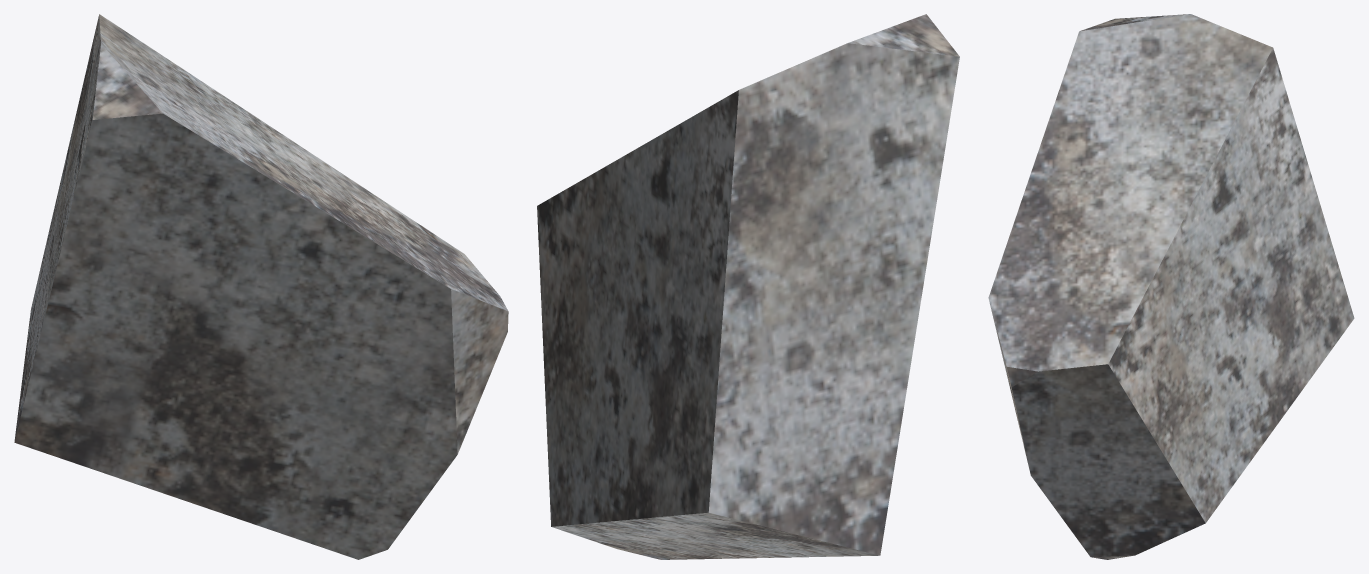
The model's file is Asteroid_Large_001_02_003_03_002.fbx.
The picture shows the model from 3 angles, left to right: view 1: azimuth 30°, elevation 25°; view 2: azimuth 150°, elevation 25°; view 3: azimuth 270°, elevation 25°; orthographic projection. The views are drawn at different scales.
Visible parts, largest first — view 1: Asteroid_Large_001_02_003_03_002; view 2: Asteroid_Large_001_02_003_03_002; view 3: Asteroid_Large_001_02_003_03_002.
Boxes of the visible parts, bbox=[...] form: Asteroid_Large_001_02_003_03_002: bbox=[14, 14, 508, 559]; Asteroid_Large_001_02_003_03_002: bbox=[537, 14, 959, 559]; Asteroid_Large_001_02_003_03_002: bbox=[988, 14, 1354, 559].
Size of the model in its own units: 7.01 by 9.54 by 6.91.
